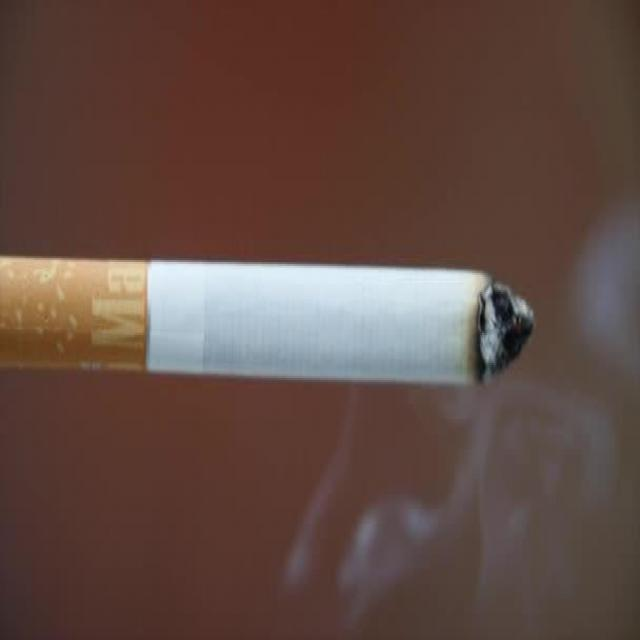cigarette: (0, 262, 548, 385)
